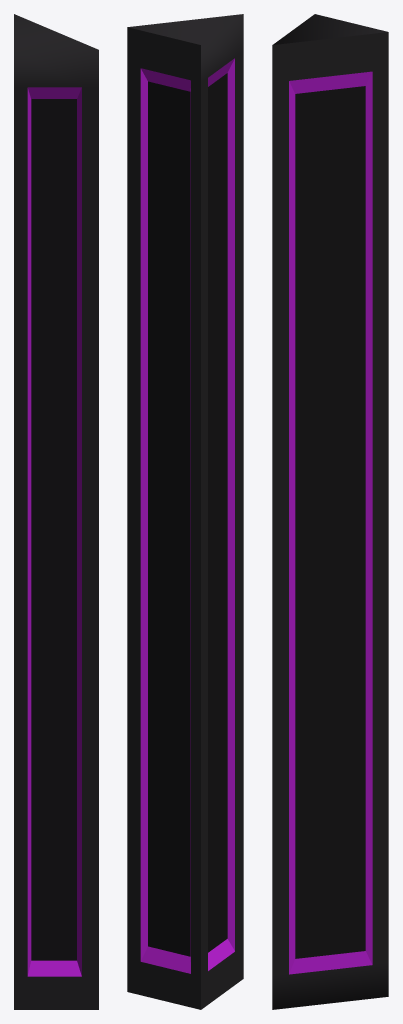
Rendered from Wall_Beam_Triangle.fbx.
The picture shows the model from 3 angles, left to right: view 1: azimuth 90°, elevation 25°; view 2: azimuth 150°, elevation 25°; view 3: azimuth 330°, elevation 25°; orthographic projection.
Visible parts, largest first — view 1: Wall_Beam_Triangle; view 2: Wall_Beam_Triangle; view 3: Wall_Beam_Triangle.
Part boxes in pixels (bbox=[...]): Wall_Beam_Triangle: bbox=[14, 14, 98, 1009]; Wall_Beam_Triangle: bbox=[127, 14, 243, 1009]; Wall_Beam_Triangle: bbox=[272, 14, 388, 1009].
Size of the model in its own units: 40 by 500 by 40.
